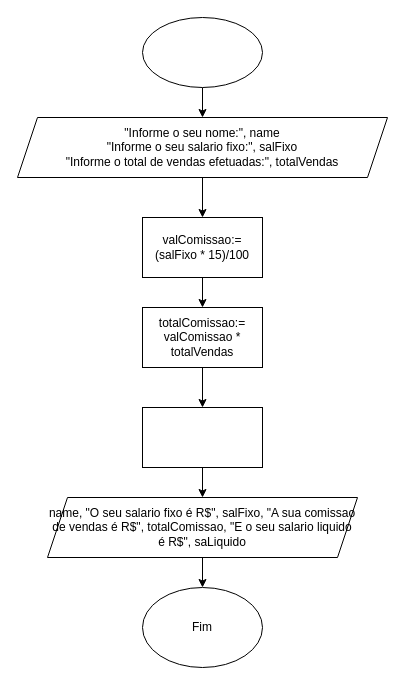
The diagram is 405 pixels wide and 685 high, and some of its shapes have lost their labels. The centre of each missing label's shape, as x and y in pixels:
Inicio: pixel 202 52
saLiquido:= totalComissao + salFixo: pixel 202 437
